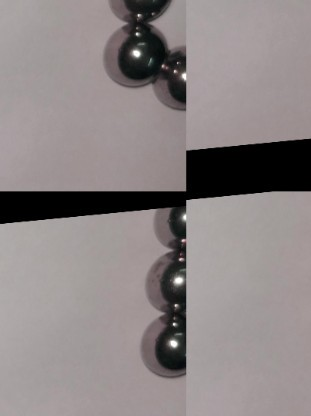ironball: (101, 24, 167, 85), (135, 312, 188, 380), (141, 249, 185, 315), (148, 42, 184, 111), (148, 208, 189, 249), (101, 0, 168, 20)
